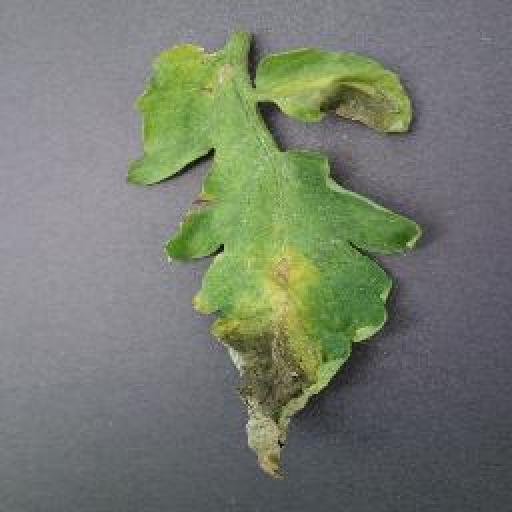disease_tomato: (129, 41, 423, 476)
